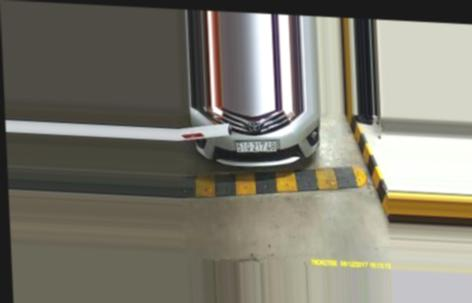License_Plate: (235, 135, 279, 157)
